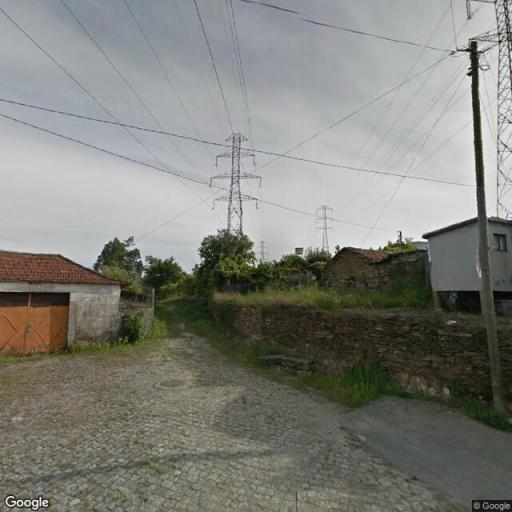ss_3: (210, 130, 264, 244), (312, 200, 338, 254), (255, 232, 271, 267)
